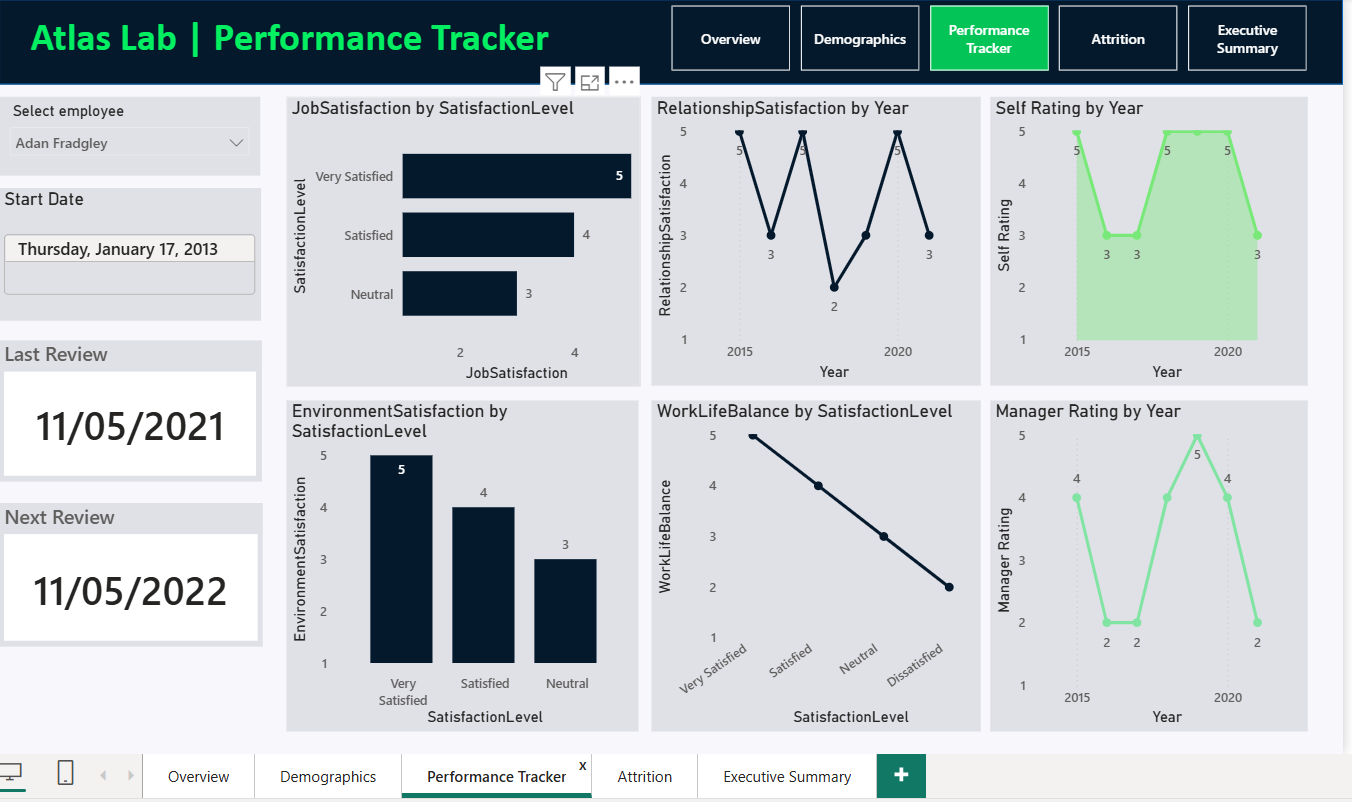

The dashboard page shown, as its layout file describes it:
{"tool":"powerbi","page":{"name":"Performance Tracker","canvas":[1280,720],"ordinal":2},"visuals":[{"type":"slicer","fields":{"Values":["Dim_Employee.Full Name"]},"box":[0,93.8,248.8,75],"z":0},{"type":"cardVisual","title":"Start Date","fields":{"Rows":["Dim_Employee.HireDate"]},"box":[0,181.2,249.5,126.2],"z":1000},{"type":"cardVisual","title":"Last Review","fields":{"Data":["_Measures.LastReviewDate"]},"box":[0,326.2,250,134],"z":2000},{"type":"cardVisual","title":"Next Review","fields":{"Data":["_Measures.NextReviewDate"]},"box":[0,481.2,251.2,136.8],"z":3000},{"type":"shape","box":[0,1.2,1280,81.2],"z":4000},{"type":"textbox","box":[25,10,528.8,63.8],"z":5000},{"type":"pageNavigator","box":[640,7.5,606.2,62.5],"z":6000},{"type":"lineChart","fields":{"Category":["DimDate.Year"],"Y":["_Measures.Manager Rating"]},"box":[943.8,383.8,302.5,315],"z":7000},{"type":"areaChart","fields":{"Category":["DimDate.Year"],"Y":["_Measures.Self Rating"]},"box":[943.8,93.8,302.5,275],"z":8000},{"type":"lineChart","fields":{"Category":["DimDate.Year"],"Y":["_Measures.RelationshipSatisfaction"]},"box":[621.2,93.8,313.8,275],"z":9000},{"type":"lineChart","fields":{"Y":["_Measures.WorkLifeBalance"],"Category":["Dim_SatisfiedLevel.SatisfactionLevel"]},"box":[621.2,383.8,313.8,315],"z":10000},{"type":"barChart","fields":{"Category":["Dim_SatisfiedLevel.SatisfactionLevel"],"Y":["_Measures.JobSatisfaction"]},"box":[273.8,93.8,337.5,276.2],"z":11000},{"type":"columnChart","fields":{"Y":["_Measures.EnvironmentSatisfaction"],"Category":["Dim_SatisfiedLevel.SatisfactionLevel"]},"box":[273.8,383.8,335,315],"z":12000}]}

Visuals, with their boxes on the page's 1280x720 design canvas (x1, y1, x2, y2). These are canvas units, not pixel positions in the 1352x802 screenshot, which may show the page scaled, cropped or inside an application window:
slicer - Dim_Employee.Full Name: [x1=0, y1=94, x2=249, y2=169]
"Start Date" cardVisual: [x1=0, y1=181, x2=250, y2=307]
"Last Review" cardVisual: [x1=0, y1=326, x2=250, y2=460]
"Next Review" cardVisual: [x1=0, y1=481, x2=251, y2=618]
shape: [x1=0, y1=1, x2=1280, y2=82]
textbox: [x1=25, y1=10, x2=554, y2=74]
pageNavigator: [x1=640, y1=8, x2=1246, y2=70]
lineChart - DimDate.Year x _Measures.Manager Rating: [x1=944, y1=384, x2=1246, y2=699]
areaChart - DimDate.Year x _Measures.Self Rating: [x1=944, y1=94, x2=1246, y2=369]
lineChart - DimDate.Year x _Measures.RelationshipSatisfaction: [x1=621, y1=94, x2=935, y2=369]
lineChart - _Measures.WorkLifeBalance x Dim_SatisfiedLevel.SatisfactionLevel: [x1=621, y1=384, x2=935, y2=699]
barChart - Dim_SatisfiedLevel.SatisfactionLevel x _Measures.JobSatisfaction: [x1=274, y1=94, x2=611, y2=370]
columnChart - _Measures.EnvironmentSatisfaction x Dim_SatisfiedLevel.SatisfactionLevel: [x1=274, y1=384, x2=609, y2=699]
